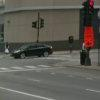Car: (8, 38, 60, 64)
